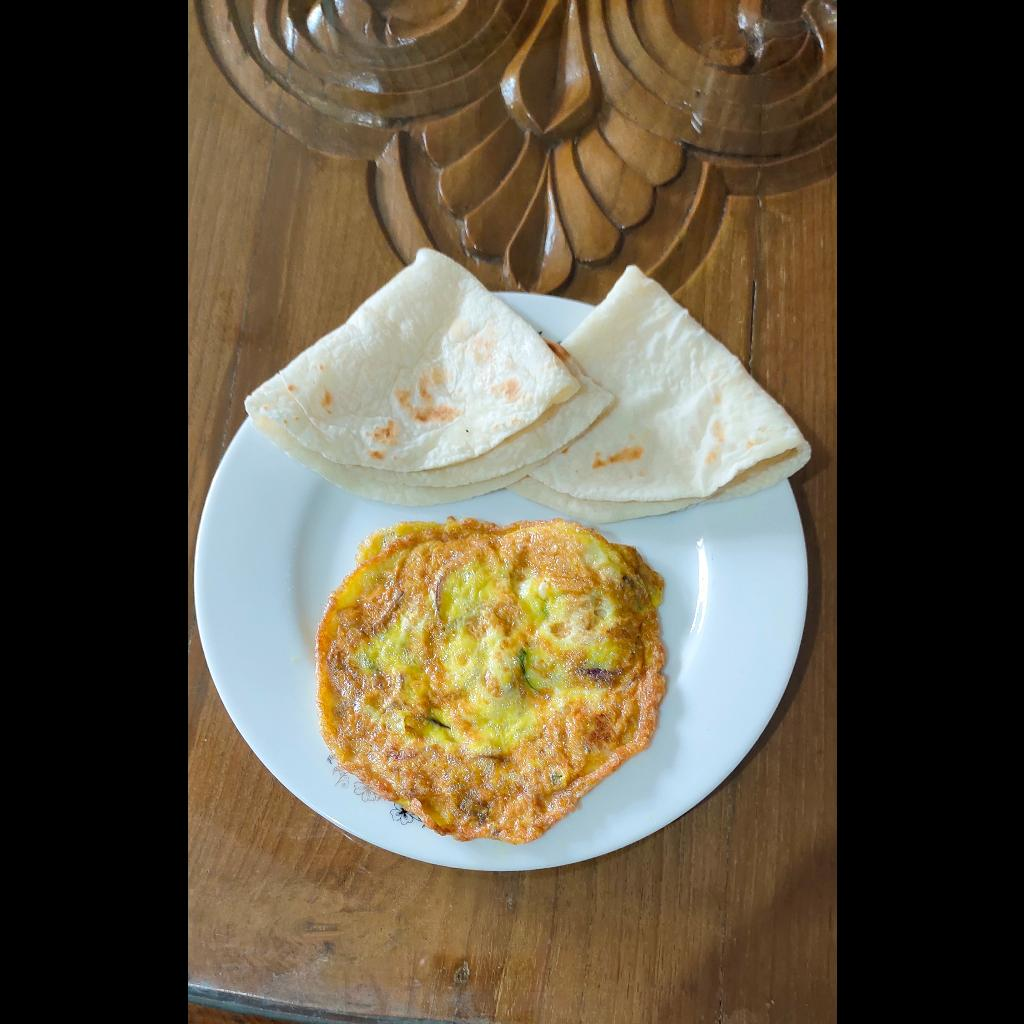egg-poached: (315, 518, 670, 843)
ruti: (244, 238, 810, 531)
